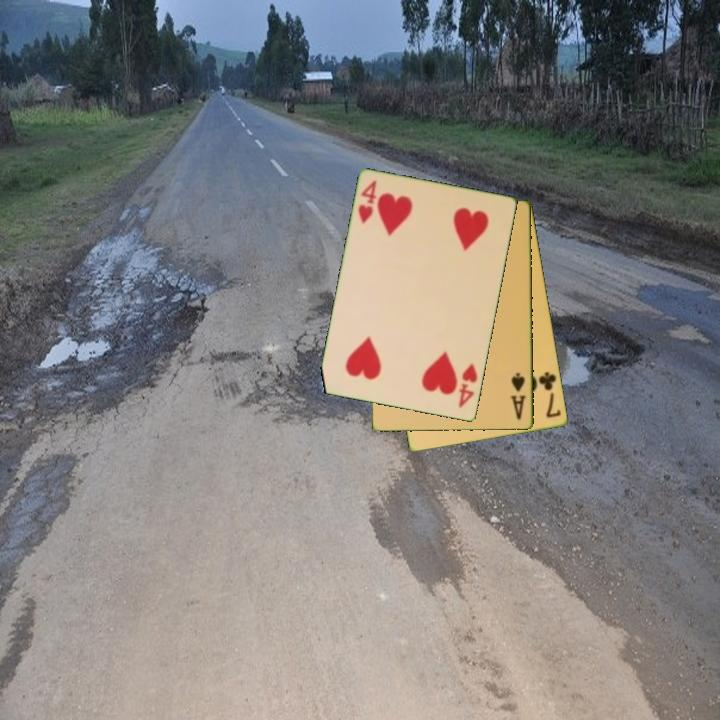4h: (455, 360, 481, 411), (355, 177, 380, 227)
7c: (535, 368, 564, 421)
As: (507, 370, 529, 423)
